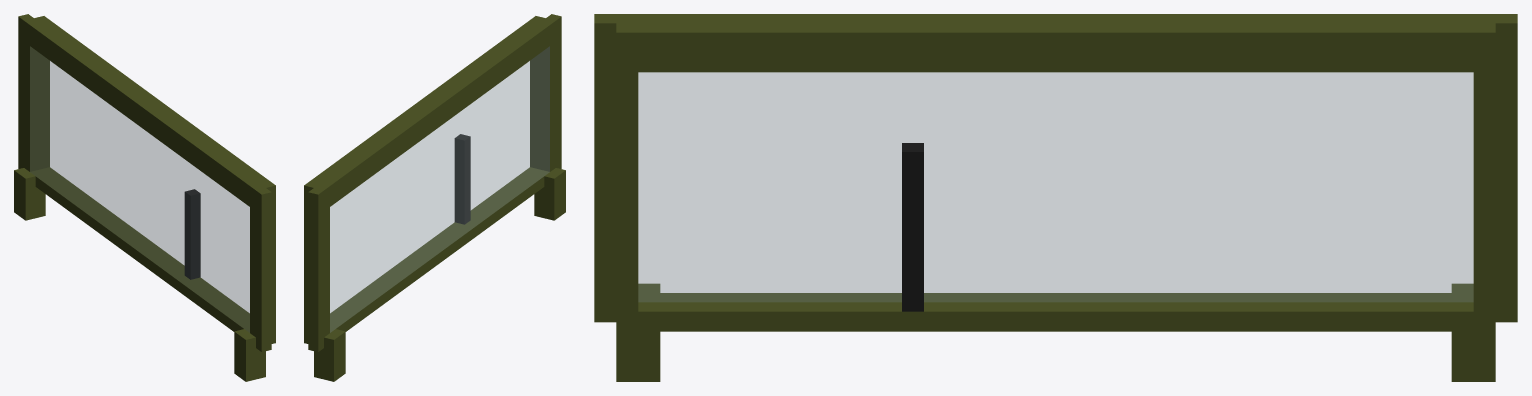
File: army_jeep_windscreen.glb
3 renders of one model, left to right at view 1: azimuth 30°, elevation 25°; view 2: azimuth 150°, elevation 25°; view 3: azimuth 270°, elevation 25°, orthographic. The views are drawn at different scales.
Visible parts, largest first — view 1: body:compound; view 2: body:compound; view 3: body:compound.
Part boxes in pixels (bbox=[...]): body:compound: bbox=[14, 14, 275, 381]; body:compound: bbox=[304, 14, 565, 381]; body:compound: bbox=[594, 14, 1517, 381].
Size of the model in its own units: 0.0938 by 0.5625 by 1.31.
